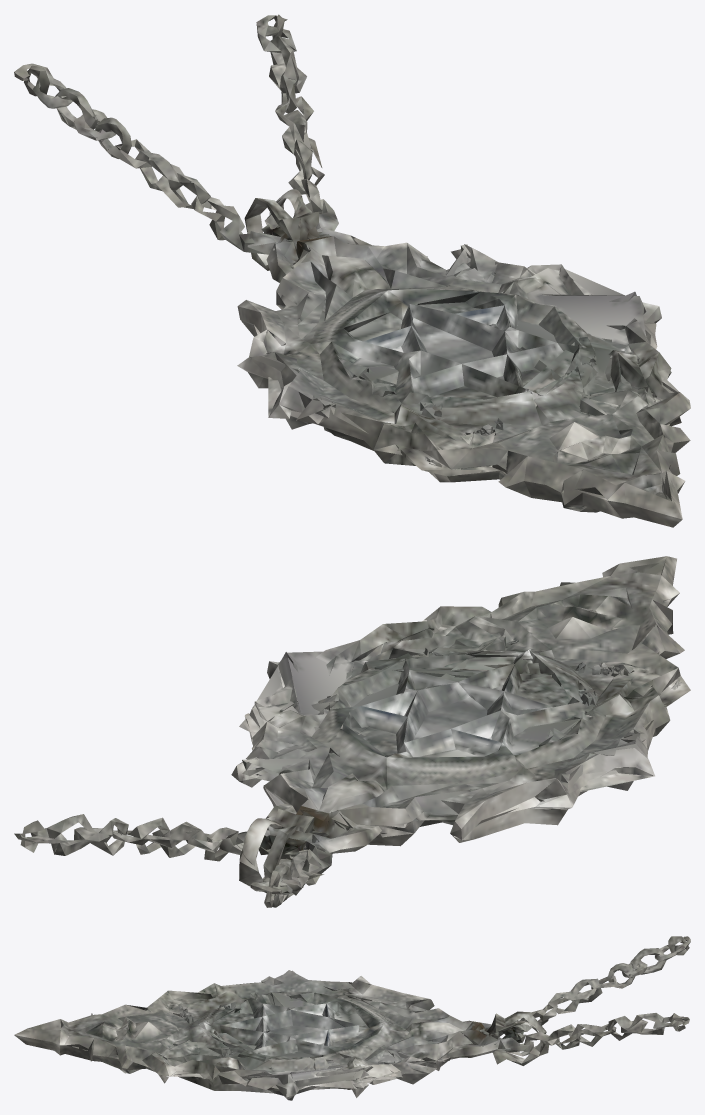
The model's file is medallion_LOD1.fbx.
The picture shows the model from 3 angles, top to bottom: view 1: azimuth 30°, elevation 25°; view 2: azimuth 150°, elevation 25°; view 3: azimuth 270°, elevation 25°; orthographic projection. The views are drawn at different scales.
Parts seen in each view (by area): view 1: medallion_LOD1; view 2: medallion_LOD1; view 3: medallion_LOD1.
Boxes of the visible parts, <box> form: medallion_LOD1: <box>14,14,690,527</box>; medallion_LOD1: <box>14,556,690,907</box>; medallion_LOD1: <box>14,936,690,1100</box>.
Size of the model in its own units: 0.0507 by 0.0193 by 0.1202.
Materials: 1 (1 with a texture image).
